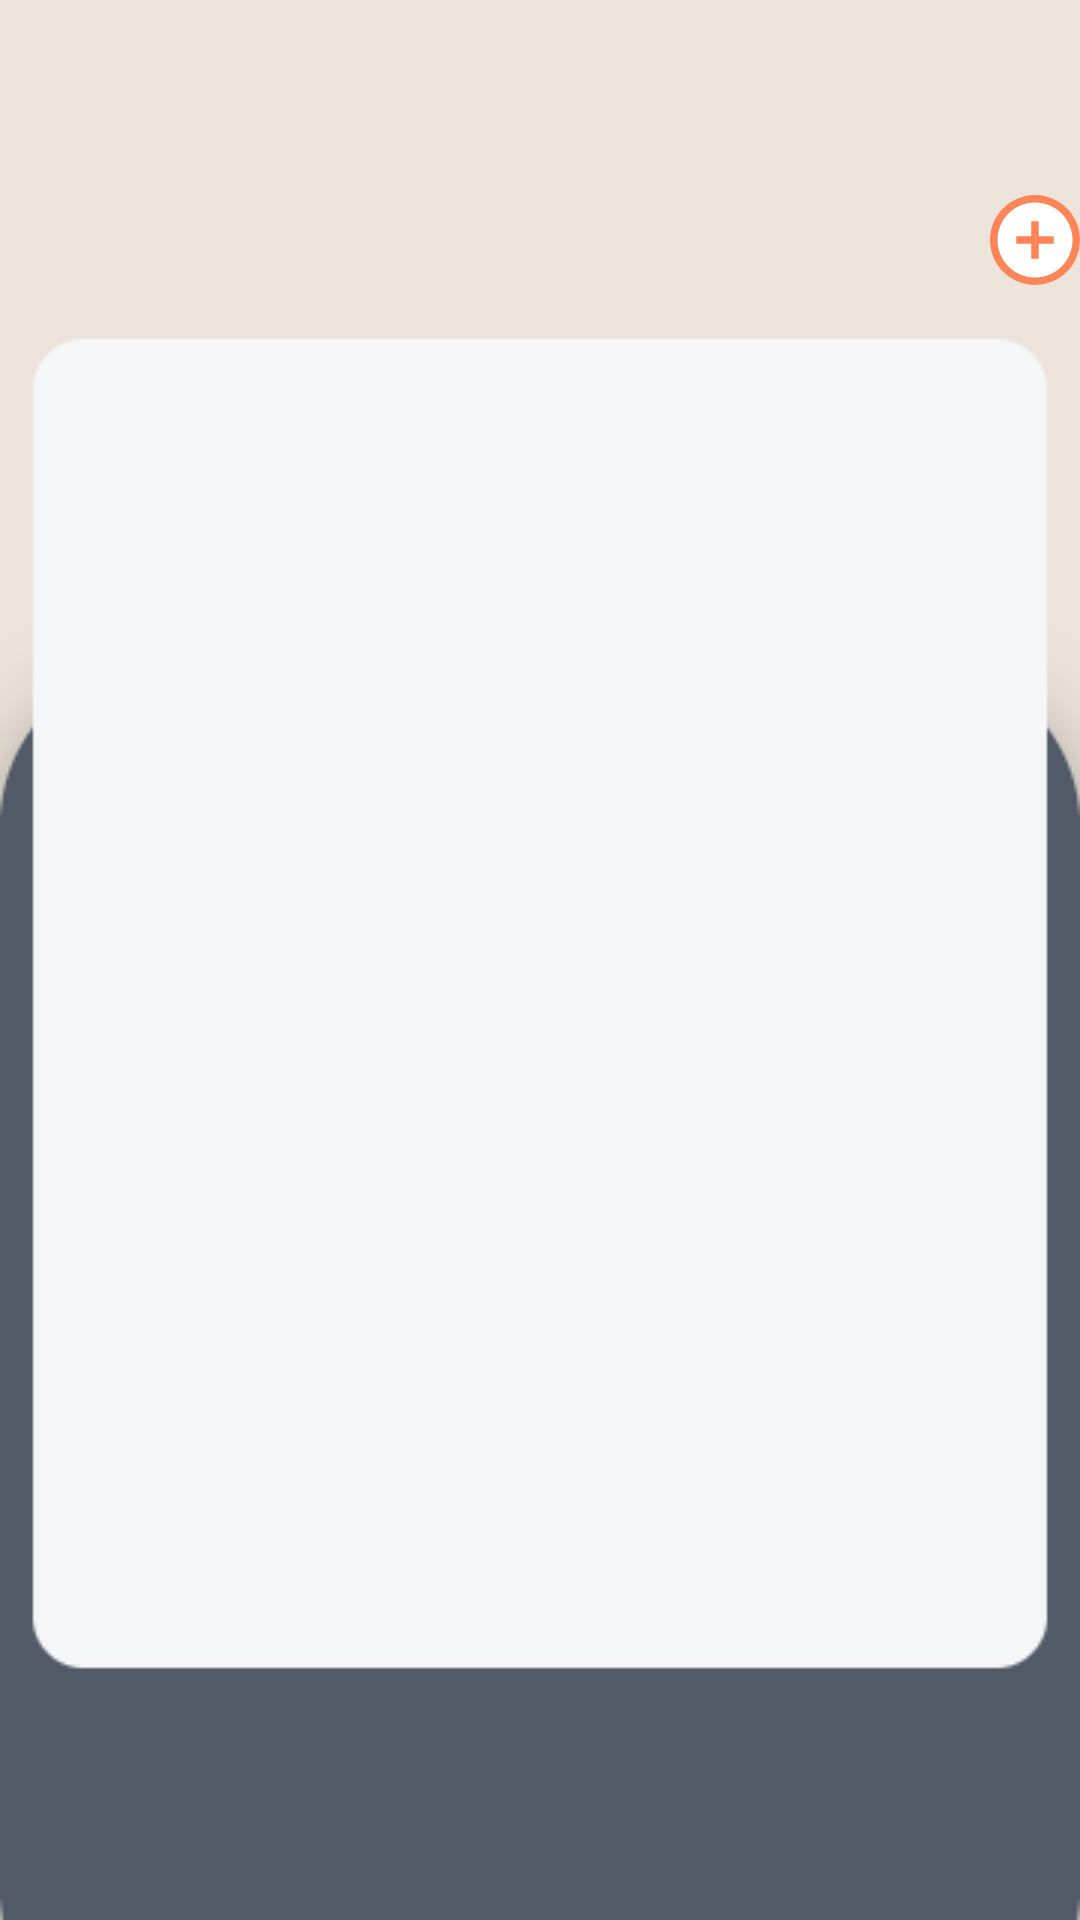

Icons on this 1080w x 1920h Android screen, each with its box as BBox(x1, y1, x2, y2):
add: BBox(990, 195, 1080, 285)
